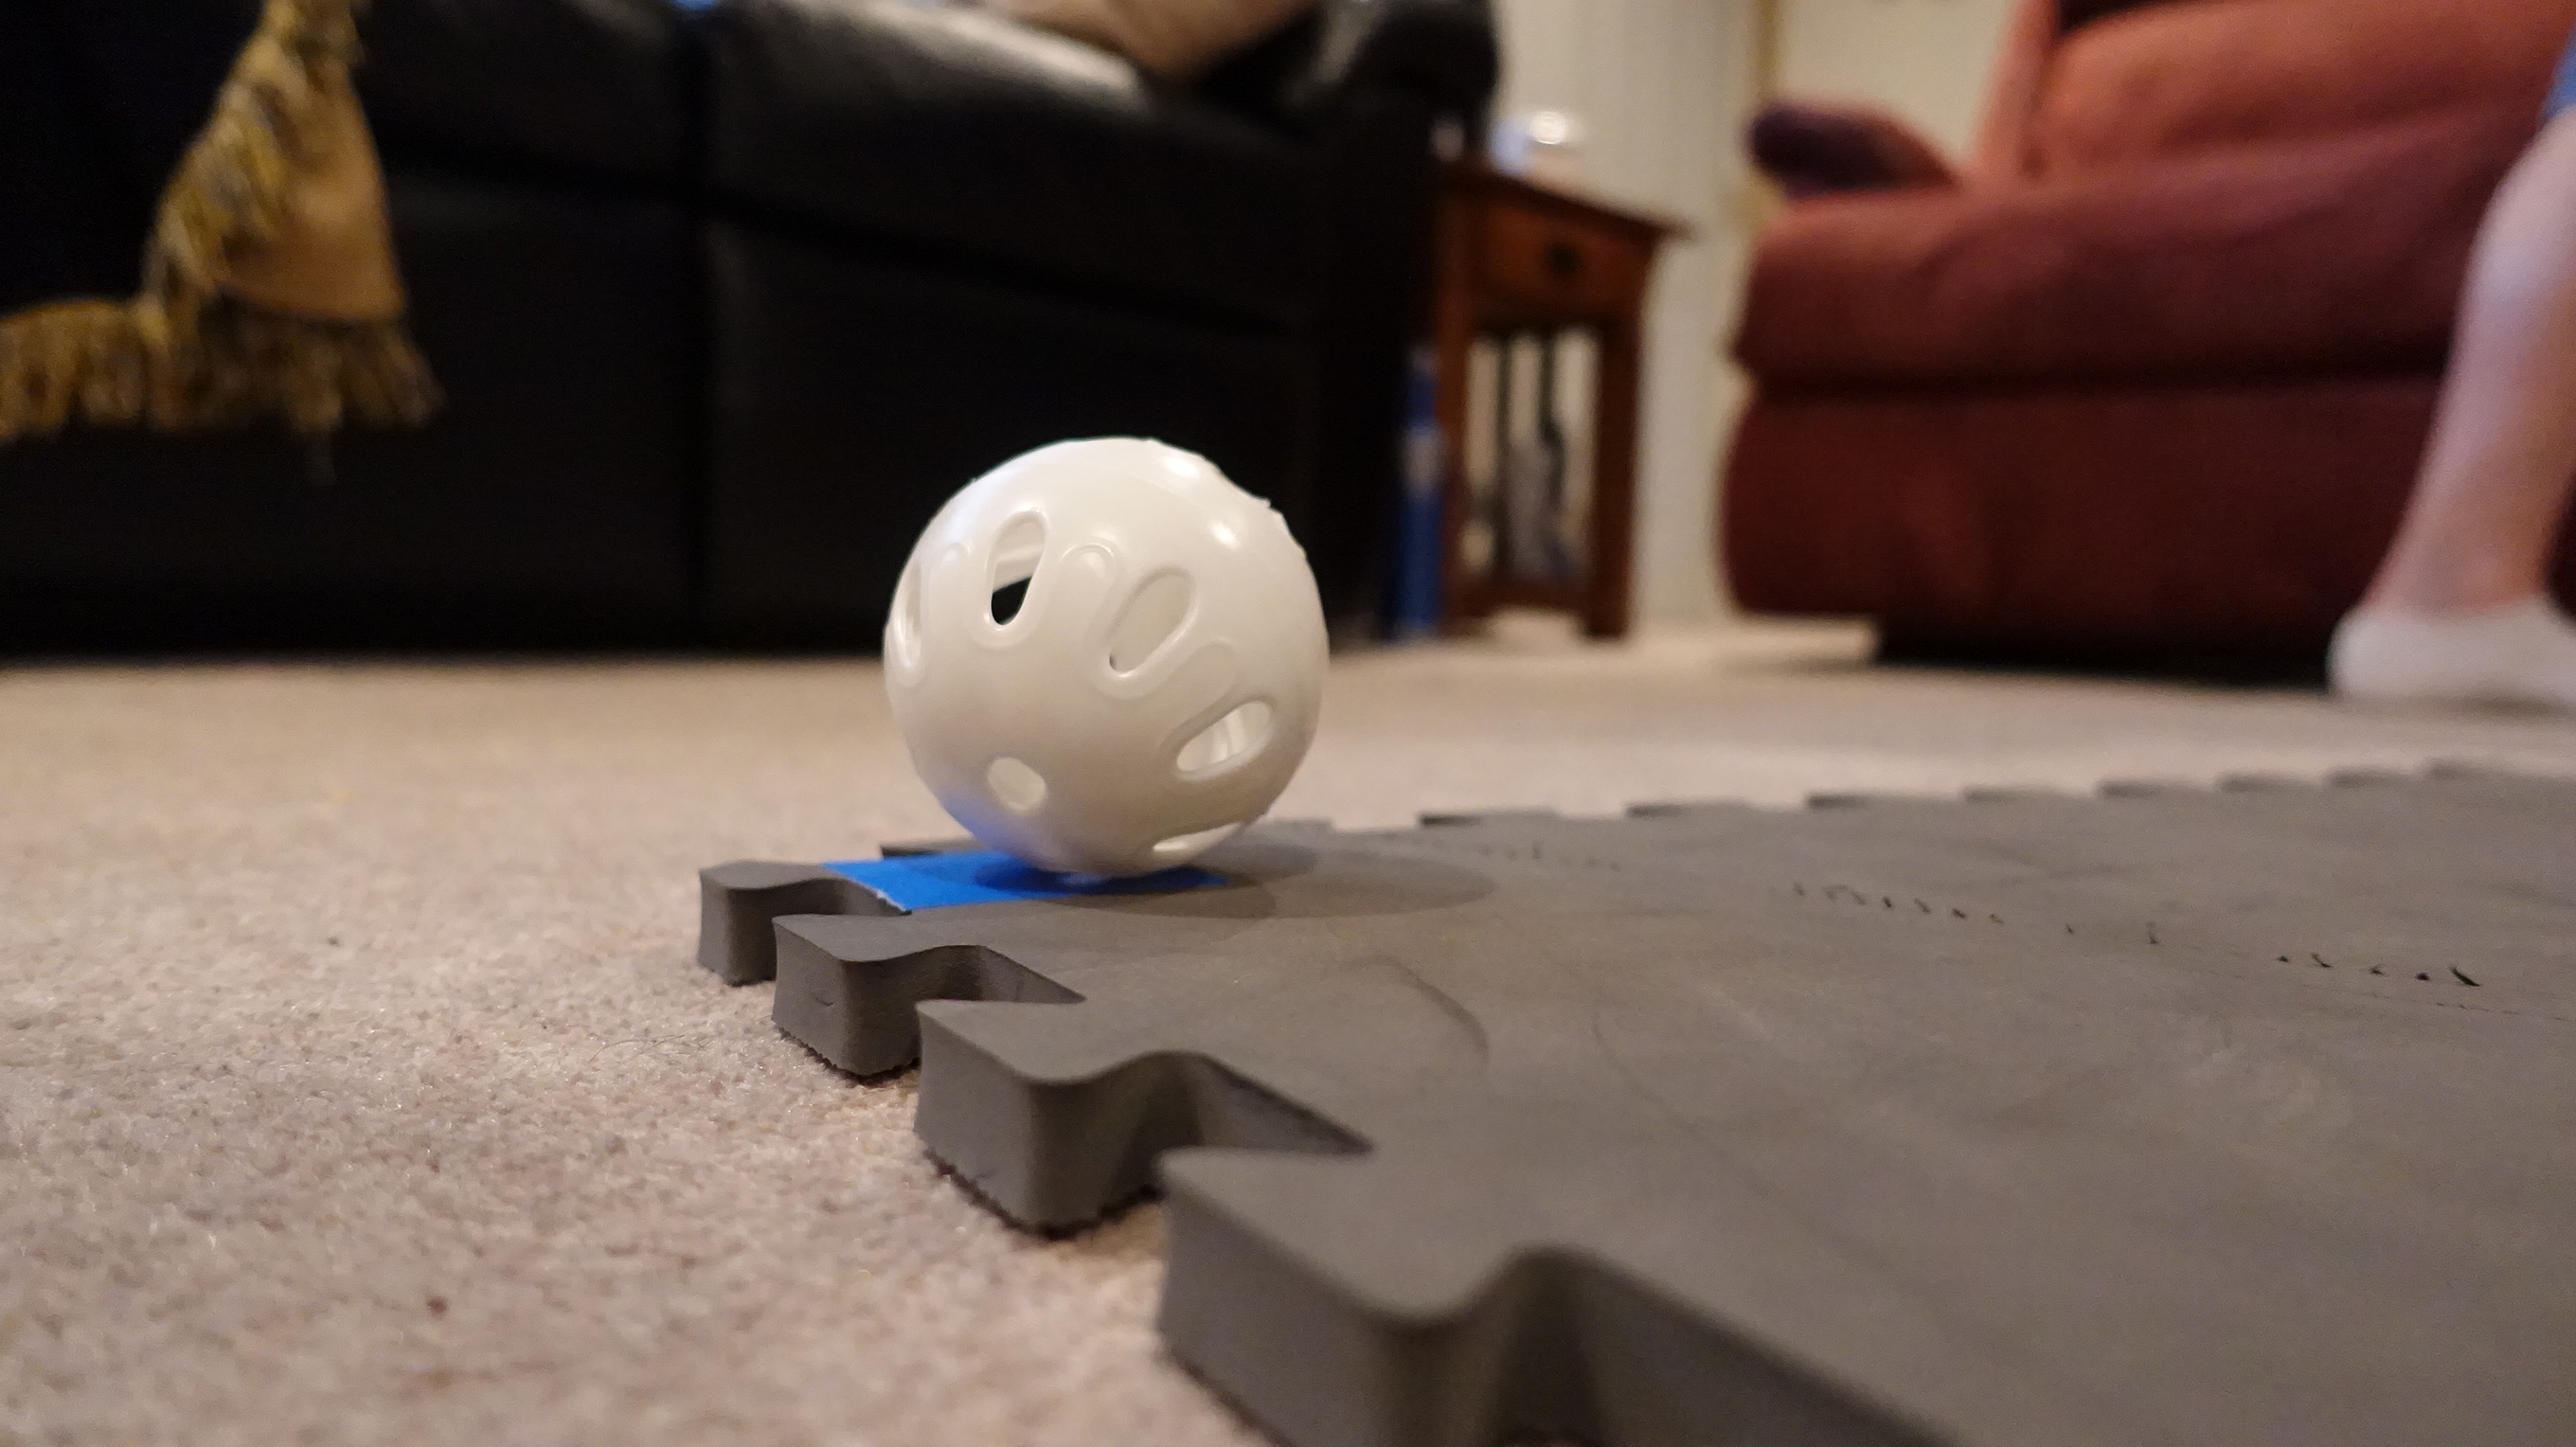silver: (874, 435, 1332, 877)
